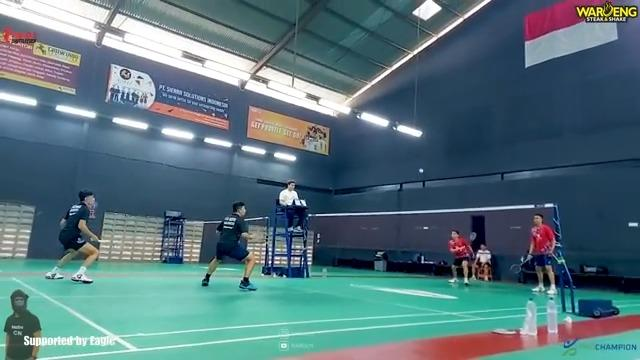Shuttlecock: (419, 162, 427, 176)
